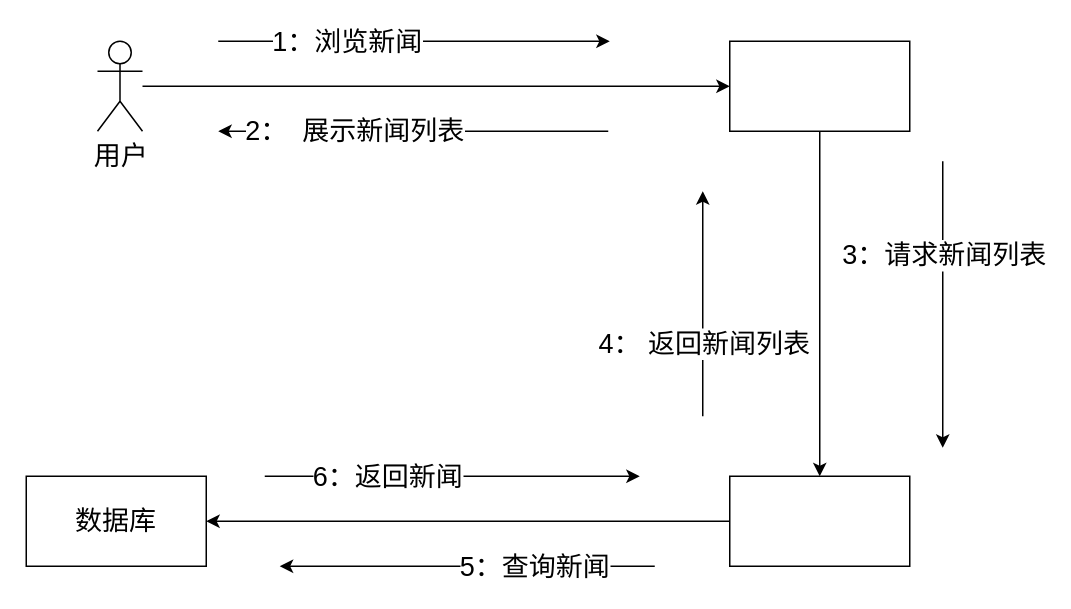
The diagram is 1071 pixels wide and 609 high, and some of its shapes have lost their labels. The centre of each missing label's shape, as x and y in pixels:
前端应用: pixel 819 85
后端服务: pixel 819 520
